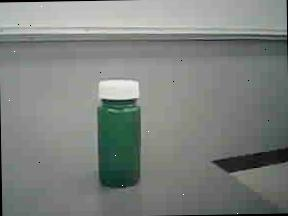Bottle C: (84, 71, 155, 200)
